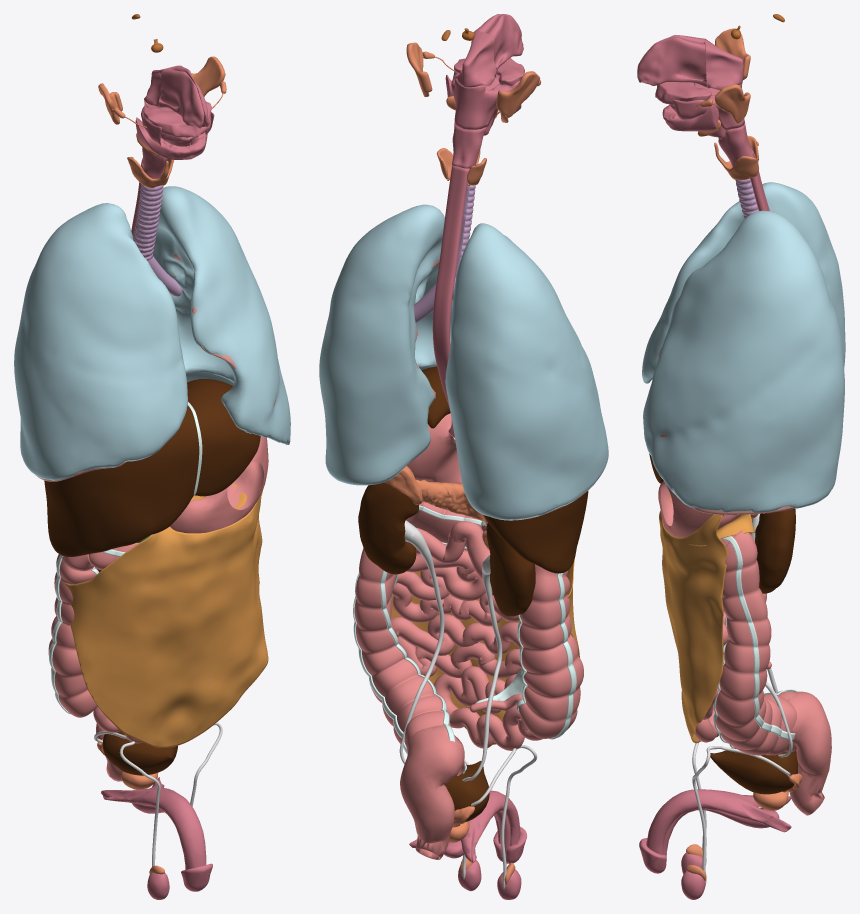
Rendered from visceral.glb.
The picture shows the model from 3 angles, left to right: view 1: azimuth 30°, elevation 25°; view 2: azimuth 150°, elevation 25°; view 3: azimuth 270°, elevation 25°; orthographic projection. The views are drawn at different scales.
Parts seen in each view (by area): view 1: Pleura, Greater omentum, Liver, Ascending colon, Stomach, Corpus cavernosum of penis, Gingiva, Mucosa of nasal cavity, Urinary bladder, Trachea, Parotid gland.l, Mesocolic taenia (+3 smaller); view 2: Pleura, Jejunum, Ascending colon, Descending colon, Sigmoid colon, Liver, Kidney.l, Oesophagus, Kidney.r, Stomach, Oropharynx, Corpus cavernosum of penis (+20 smaller); view 3: Pleura, Greater omentum, Descending colon, Sigmoid colon, Corpus cavernosum of penis, Mucosa of nasal cavity, Kidney.l, Urinary bladder, Gingiva, Stomach, Mesocolic taenia, Nasopharynx (+13 smaller).
Part boxes in pixels (x1=…): Pleura: x1=14, y1=186, x2=290, y2=480; Greater omentum: x1=65, y1=484, x2=268, y2=747; Liver: x1=44, y1=379, x2=260, y2=556; Ascending colon: x1=48, y1=554, x2=97, y2=717; Stomach: x1=170, y1=436, x2=268, y2=533; Corpus cavernosum of penis: x1=101, y1=777, x2=206, y2=869; Gingiva: x1=135, y1=101, x2=211, y2=159; Mucosa of nasal cavity: x1=159, y1=65, x2=210, y2=128; Urinary bladder: x1=102, y1=731, x2=177, y2=775; Trachea: x1=133, y1=184, x2=163, y2=260; Parotid gland.l: x1=191, y1=56, x2=225, y2=96; Mesocolic taenia: x1=49, y1=549, x2=125, y2=713; Pleura: x1=319, y1=204, x2=608, y2=520; Jejunum: x1=391, y1=527, x2=542, y2=750; Ascending colon: x1=518, y1=564, x2=583, y2=738; Descending colon: x1=354, y1=548, x2=464, y2=775; Sigmoid colon: x1=400, y1=727, x2=464, y2=859; Liver: x1=421, y1=366, x2=588, y2=573; Kidney.l: x1=358, y1=482, x2=418, y2=574; Oesophagus: x1=432, y1=165, x2=469, y2=438; Kidney.r: x1=486, y1=522, x2=535, y2=616; Stomach: x1=407, y1=413, x2=462, y2=483; Oropharynx: x1=451, y1=71, x2=520, y2=129; Corpus cavernosum of penis: x1=409, y1=790, x2=520, y2=862; Pleura: x1=642, y1=182, x2=845, y2=513; Greater omentum: x1=659, y1=498, x2=728, y2=743; Descending colon: x1=715, y1=530, x2=796, y2=755; Sigmoid colon: x1=788, y1=691, x2=831, y2=815; Corpus cavernosum of penis: x1=646, y1=789, x2=791, y2=854; Mucosa of nasal cavity: x1=637, y1=35, x2=706, y2=86; Kidney.l: x1=755, y1=508, x2=795, y2=593; Urinary bladder: x1=710, y1=748, x2=798, y2=794; Gingiva: x1=655, y1=82, x2=718, y2=131; Stomach: x1=658, y1=481, x2=740, y2=537; Mesocolic taenia: x1=720, y1=536, x2=795, y2=739; Nasopharynx: x1=705, y1=39, x2=743, y2=89.
Bounding box in the file's own units: 0.2634 × 0.8931 × 0.1926.
